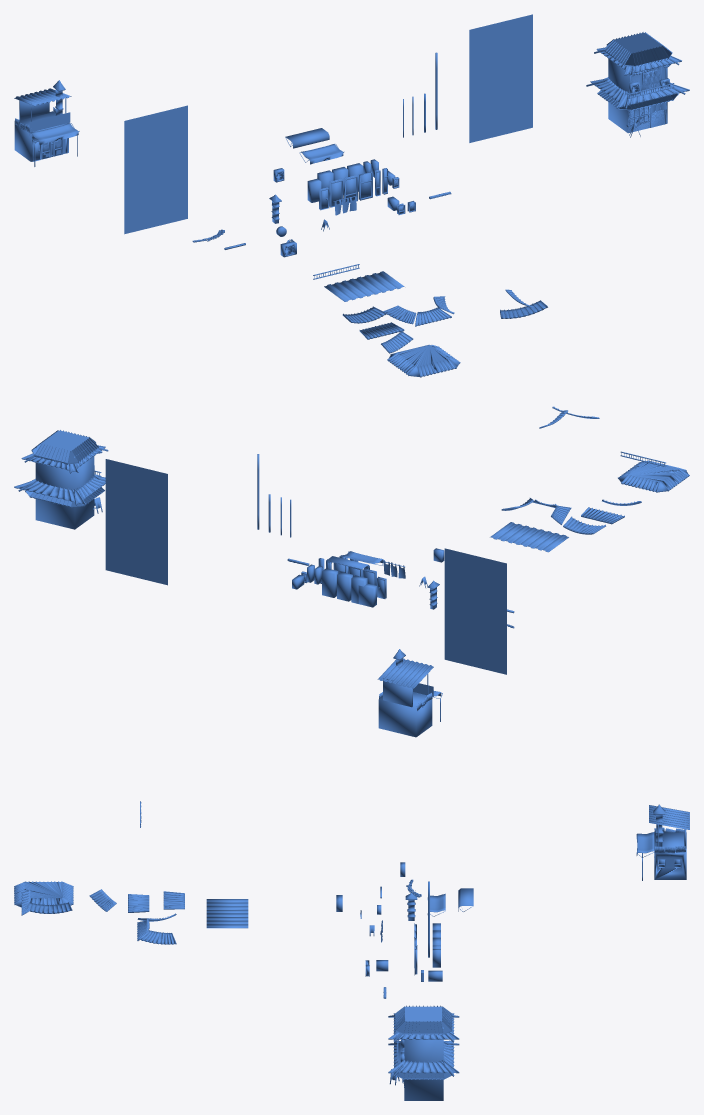
The model's file is prueba export elemens obj.obj.
3 views of the same model, one above another, from view 1: azimuth 30°, elevation 25°; view 2: azimuth 150°, elevation 25°; view 3: azimuth 270°, elevation 25° (orthographic).
Parts seen in each view (by area): view 1: Plane001, Plane013, Box018, Box050, Box009, tejado_de_chapa, ejemplo_casa, toldo_curvo001; view 2: Plane001, Plane013, Box018, ejemplo_casa, Box050, Box009, tejado_de_chapa, tejado_de_chapa001, Box043, Box002; view 3: Box018, Box050, tejado_de_chapa, Box009, ejemplo_casa, tejado_de_chapa001, Box044.
Boxes of the visible parts, x1,y1,x2,y2 form: Plane001: [124, 105, 187, 234]; Plane013: [469, 14, 532, 142]; Box018: [608, 47, 667, 133]; Box050: [604, 32, 672, 67]; Box009: [387, 344, 460, 377]; tejado_de_chapa: [324, 271, 404, 301]; ejemplo_casa: [14, 111, 68, 161]; toldo_curvo001: [30, 123, 78, 144]; Plane001: [444, 548, 506, 674]; Plane013: [105, 459, 167, 585]; Box018: [35, 443, 94, 529]; ejemplo_casa: [378, 692, 432, 737]; Box050: [31, 430, 98, 464]; Box009: [618, 460, 689, 492]; tejado_de_chapa: [490, 522, 568, 552]; tejado_de_chapa001: [377, 658, 433, 688]; Box043: [14, 479, 85, 505]; Box002: [383, 678, 412, 707]; Box018: [404, 1027, 443, 1100]; Box050: [395, 1005, 452, 1035]; tejado_de_chapa: [206, 899, 248, 928]; Box009: [14, 881, 73, 907]; ejemplo_casa: [654, 832, 686, 879]; tejado_de_chapa001: [649, 805, 689, 829]; Box044: [388, 1060, 459, 1073].
Bounding box in the file's own units: 2284 × 552 × 2557.
